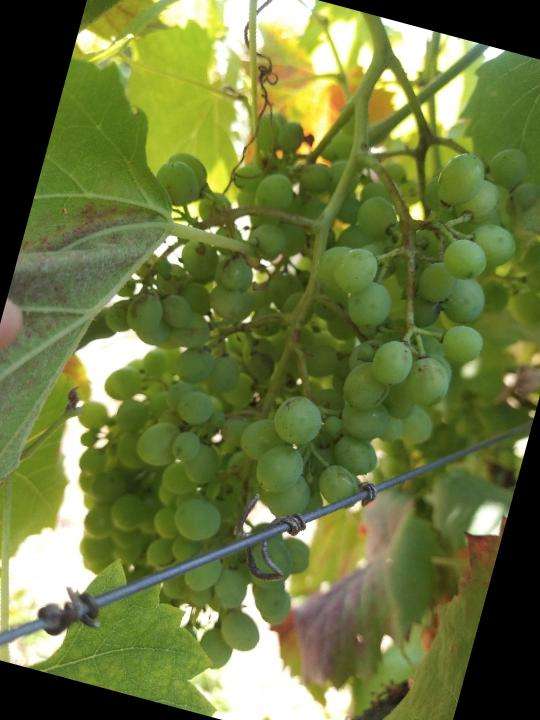grape: (24, 56, 540, 720)
